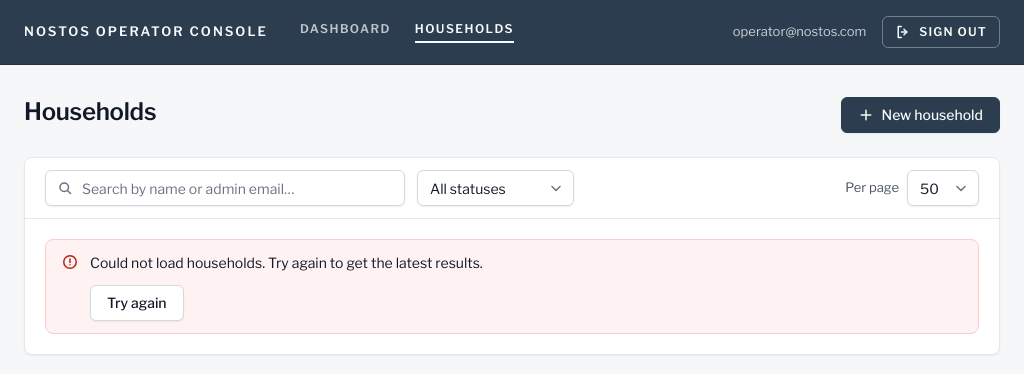
it: Console request states › shows a failed household request with retry instead of an empty register
The width and height of the screenshot is (1024, 374).
Expected: the text "no households yet" is not shown
Step 1. Click the button "Try again" → (137, 303), box [90, 285, 184, 321]
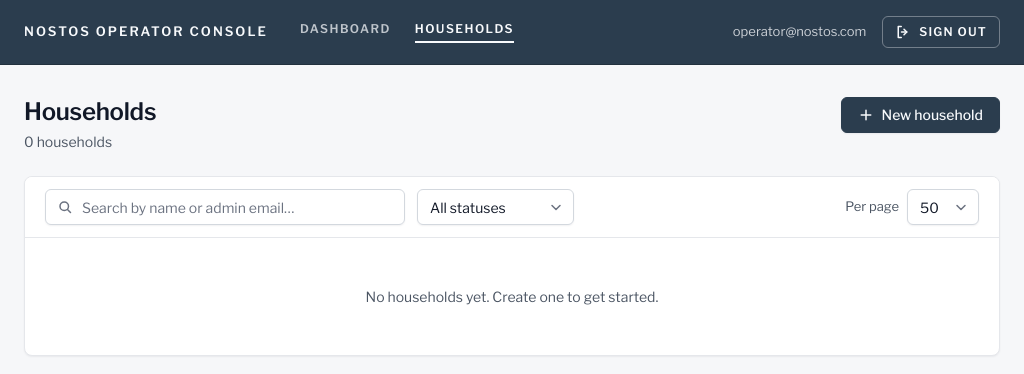
Result: the text "No households yet. Create one to get started." is shown at [366, 288, 658, 305]
